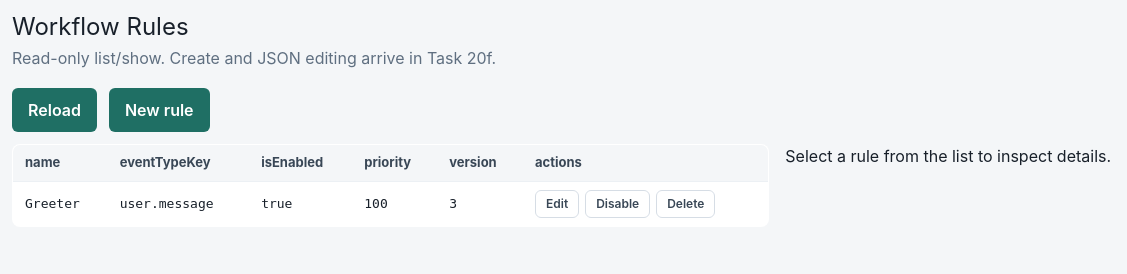
Scenario: RulesView › should surface optimistic-lock notice when toggle returns 409
What coordinates should you click on to do the following:
click the button with test id "toggle-rule-a"
I would click on:
 (618, 204)
Its box is [585, 190, 650, 218].
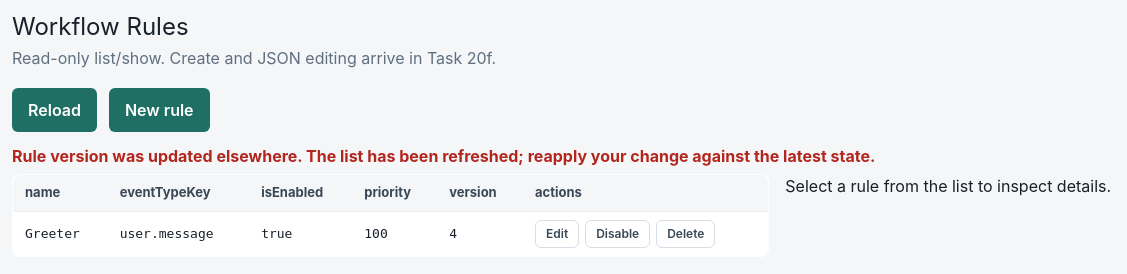
Now the message with test id "rules-conflict" shows "Rule version was updated", box [12, 146, 875, 166]
